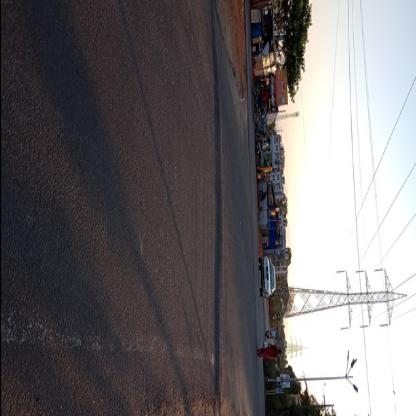speed-bumps: (201, 1, 235, 415)
